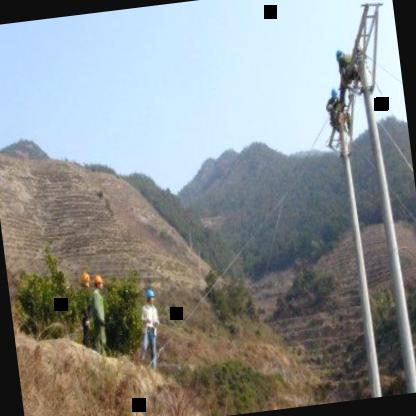helmet: (78, 266, 92, 290), (144, 285, 156, 307), (328, 85, 341, 104), (93, 273, 104, 292)
